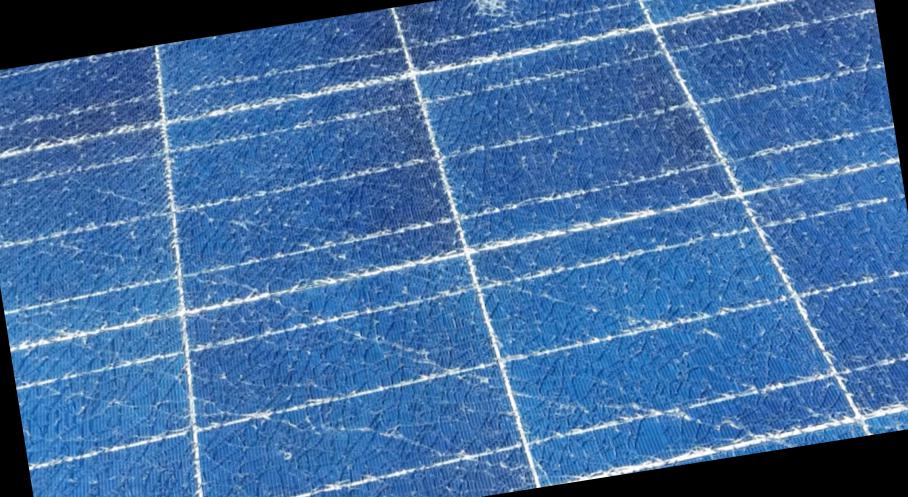Crack: (464, 0, 537, 37), (714, 0, 791, 19)
